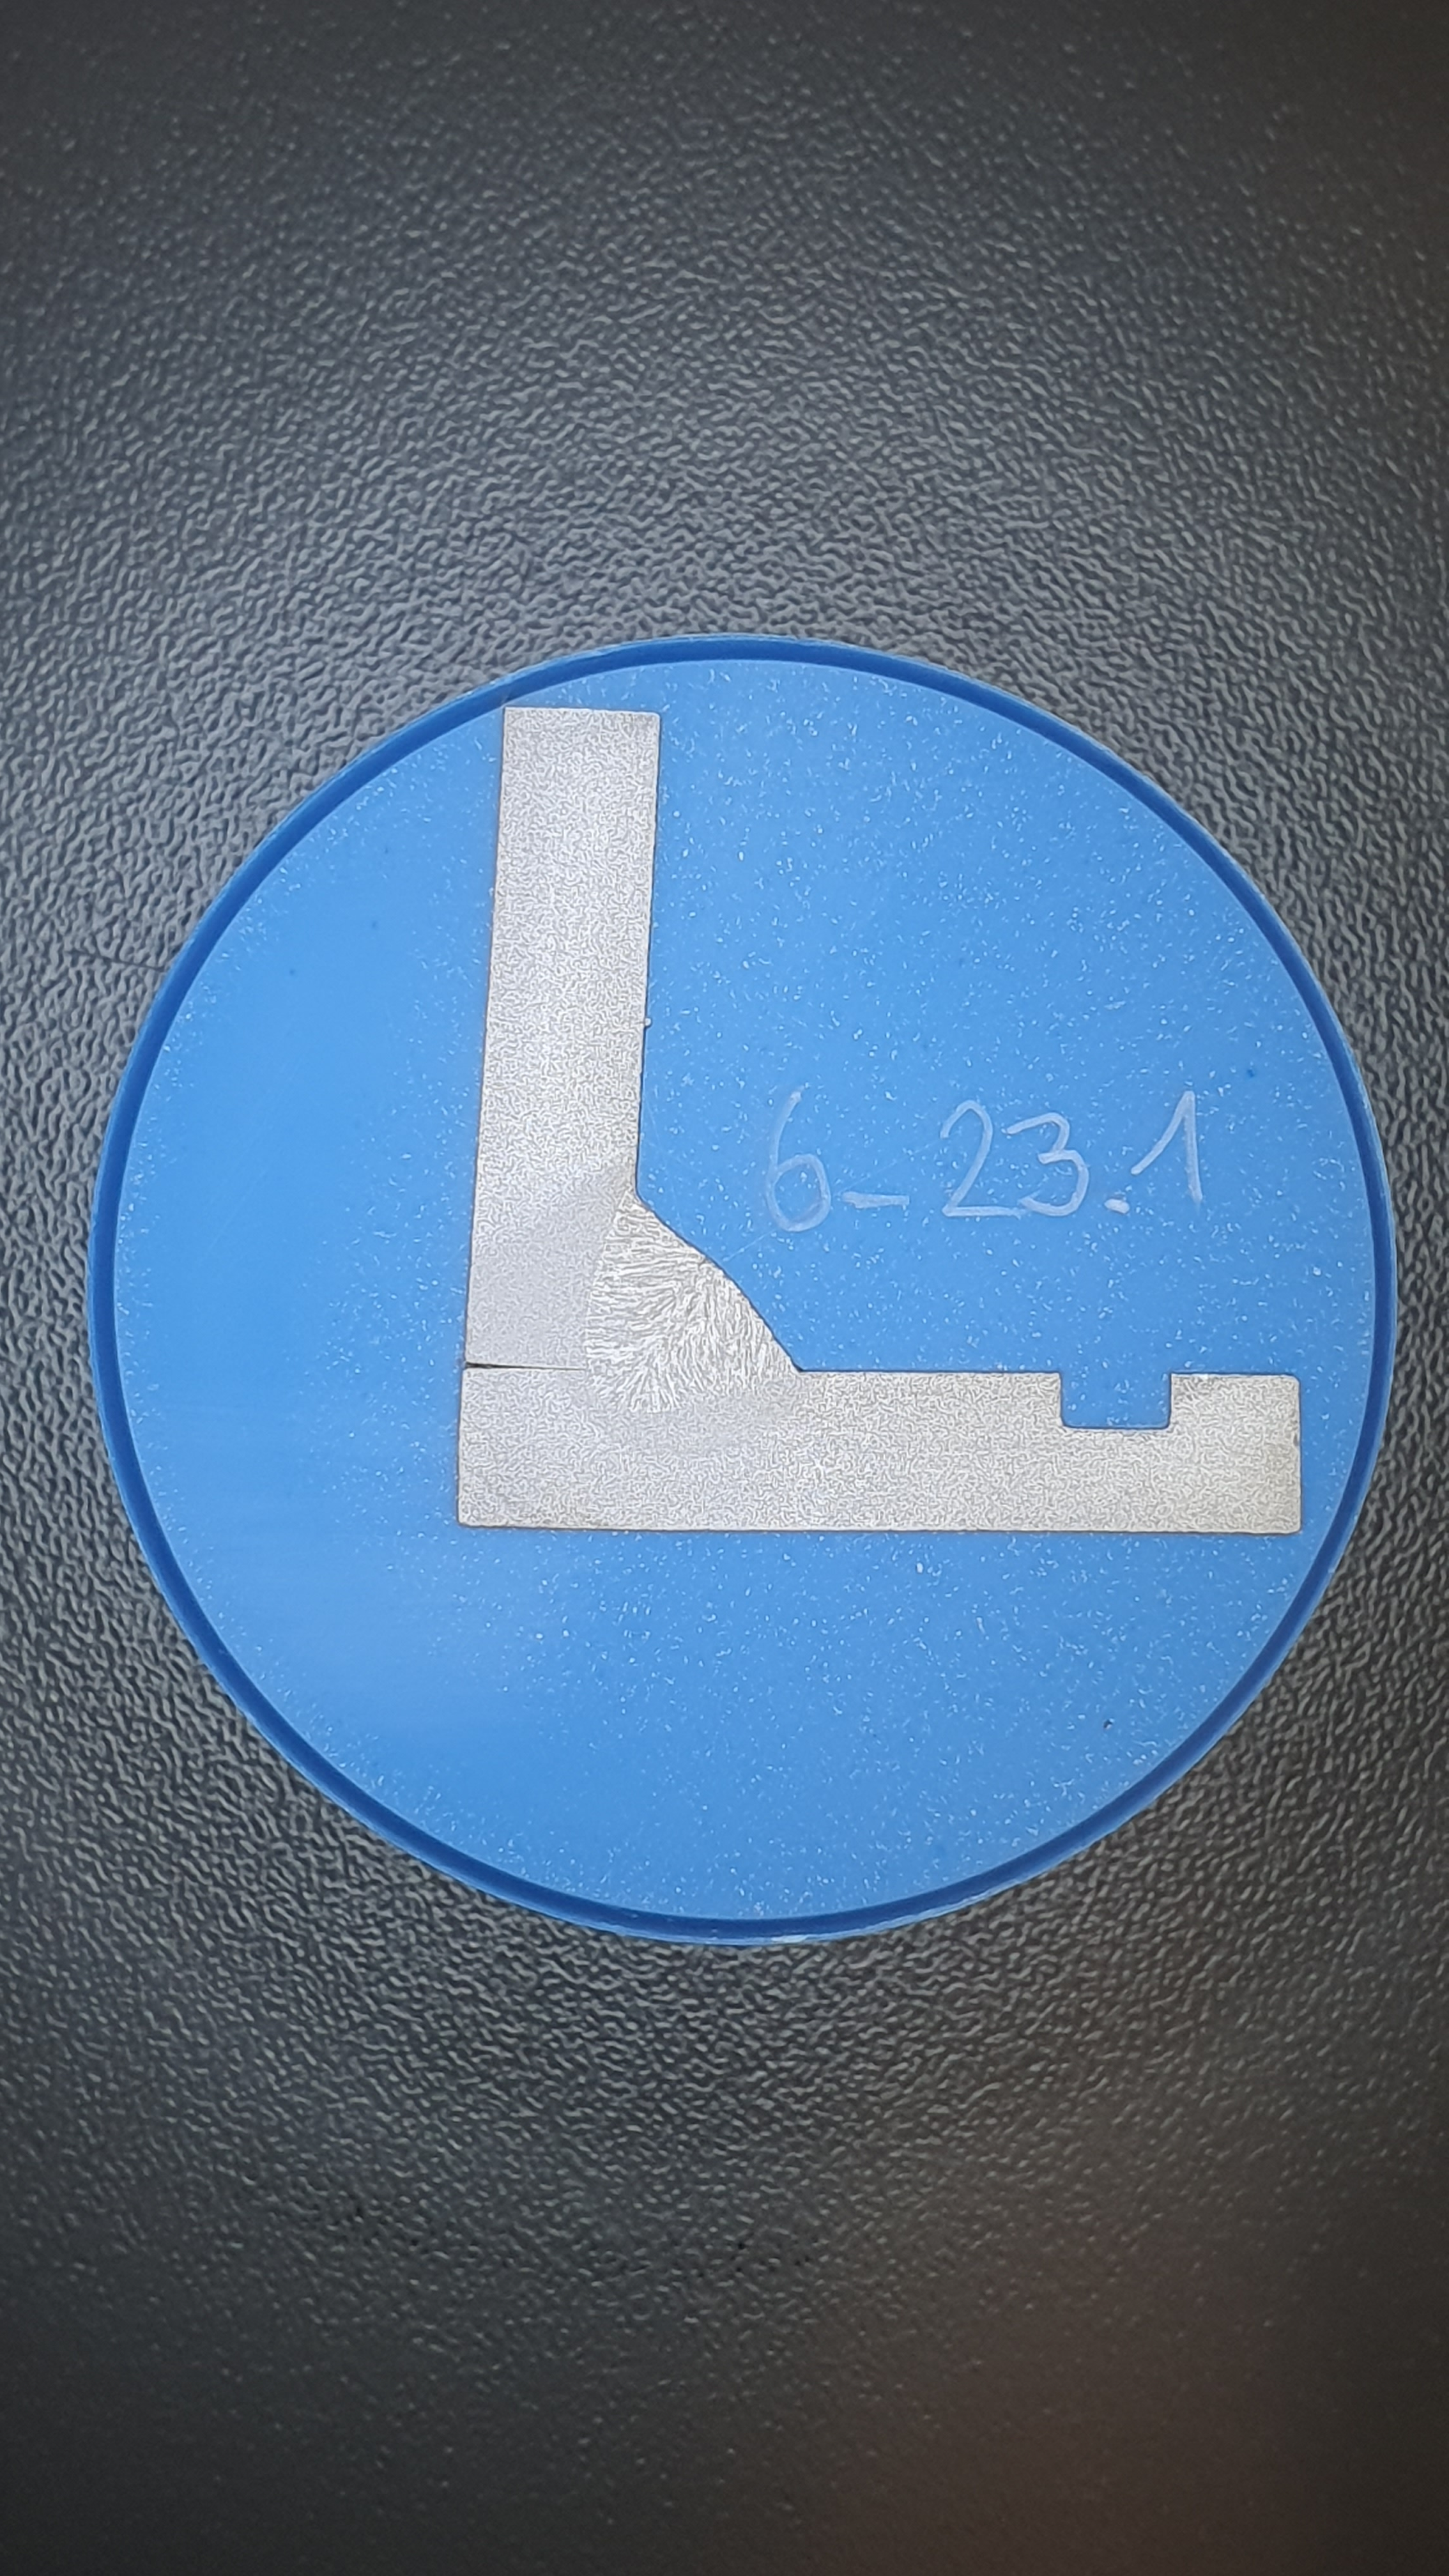Fusion: (584, 1187, 794, 1412)
Hintergrund: (113, 662, 1376, 1921)
Metall: (456, 706, 1302, 1534)
Nebenbereich: (518, 1161, 830, 1454)
